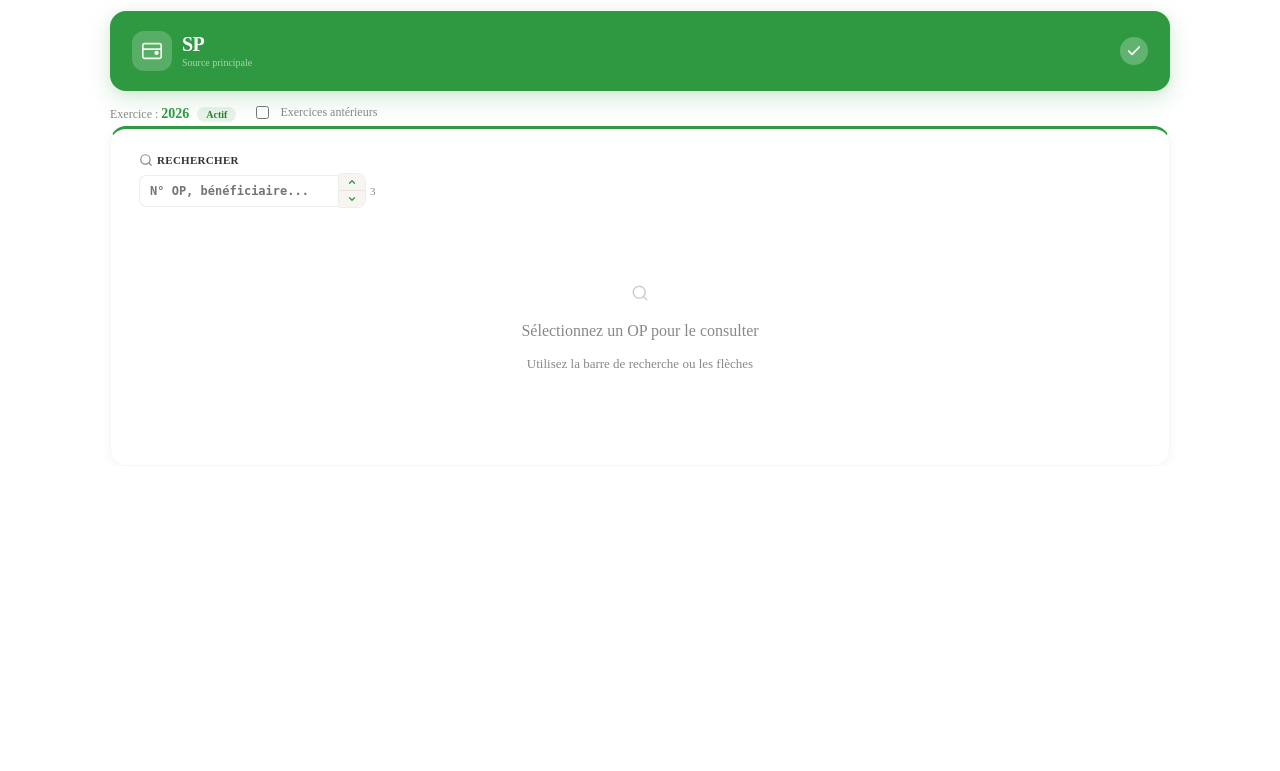
Scenario: Consulter OP — le verrou de modification › un OP déjà visé par le CF refuse la modification, et rien n'est écrit
The width and height of the screenshot is (1280, 771).
Type "0043" into the field at (239, 190), box [139,174,339,206]
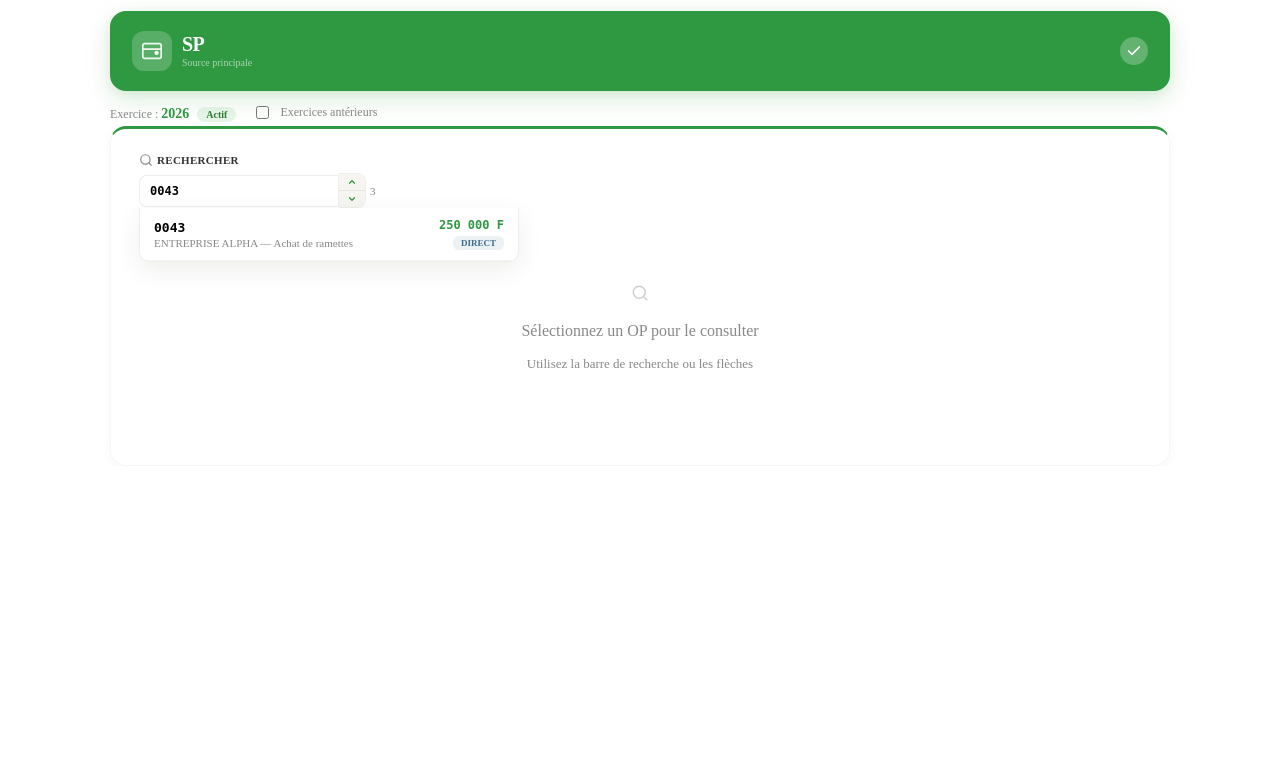
Click the text "0043" at (170, 227), box [154,220,185,234]
(page scrolled)
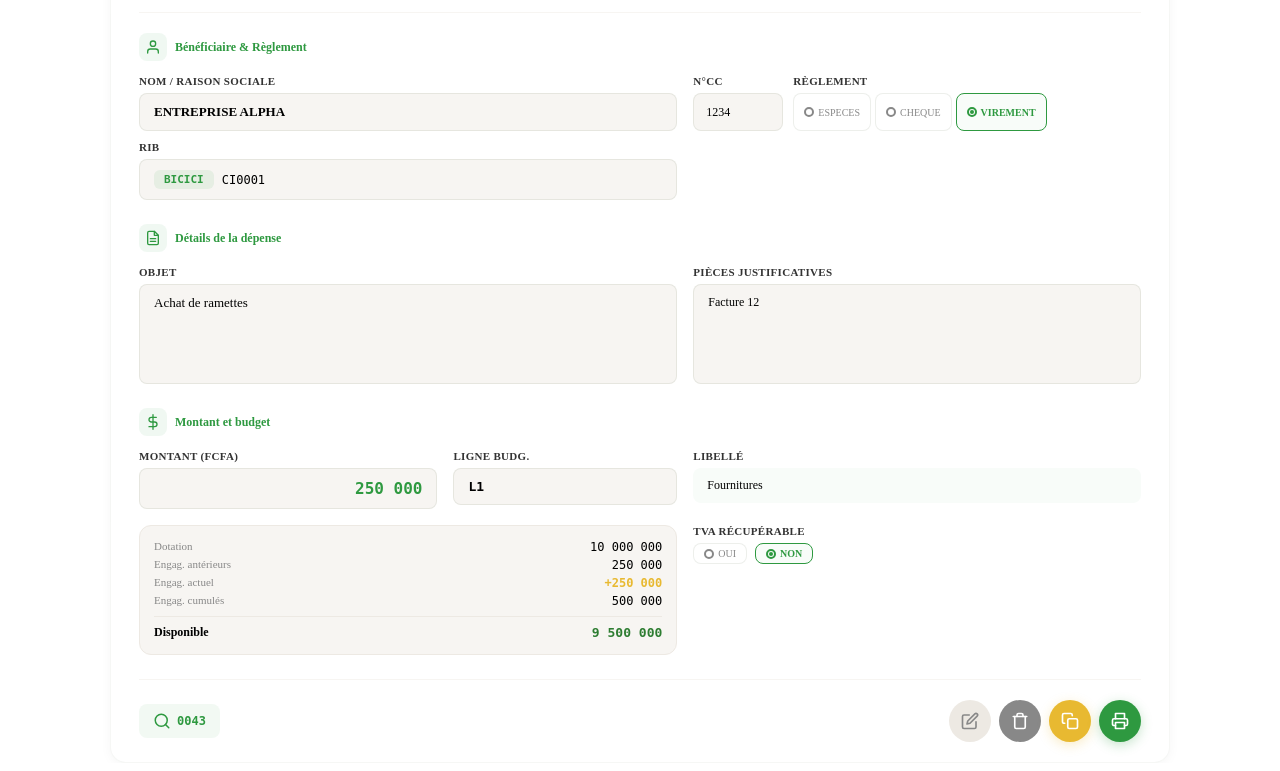
Click the button titled "Verrouillé : OP déjà visé, payé, annulé ou rejeté" at (970, 721), box [949,700,991,742]
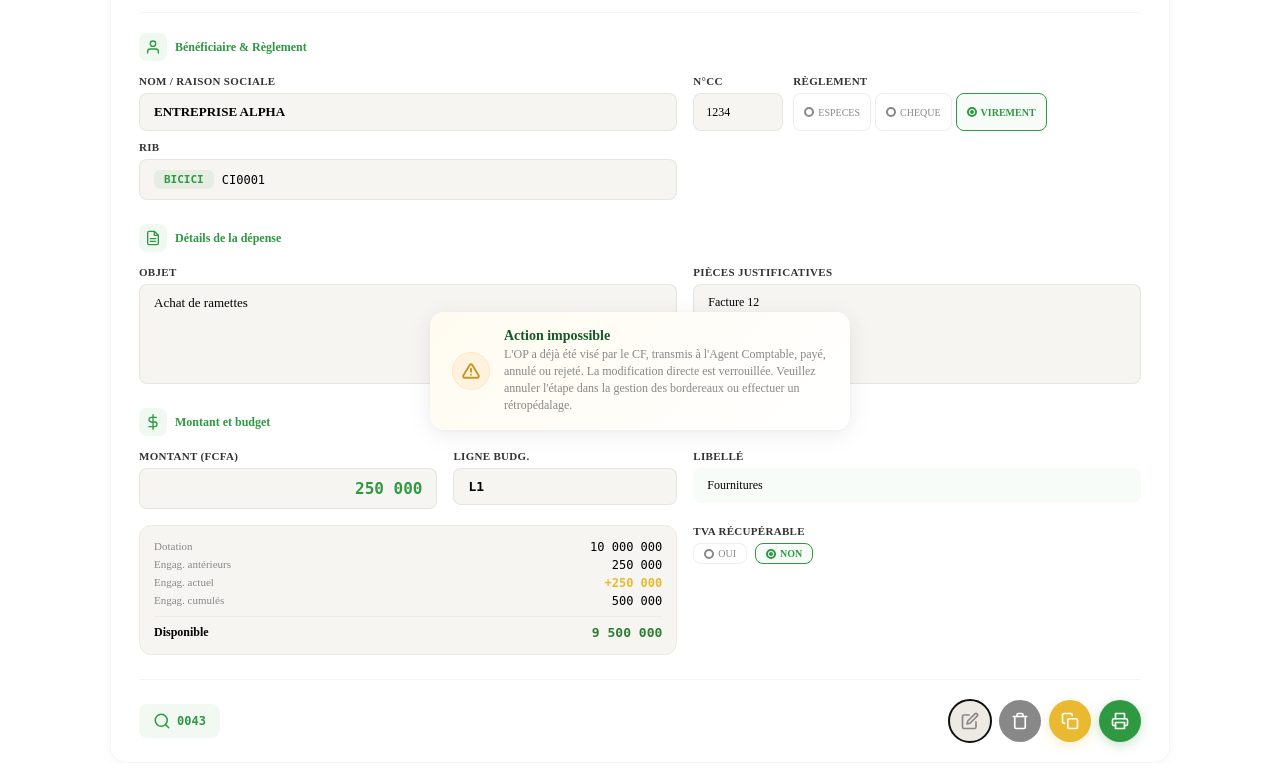
Expected: the text "Action impossible" is shown, [504,328,610,343]
